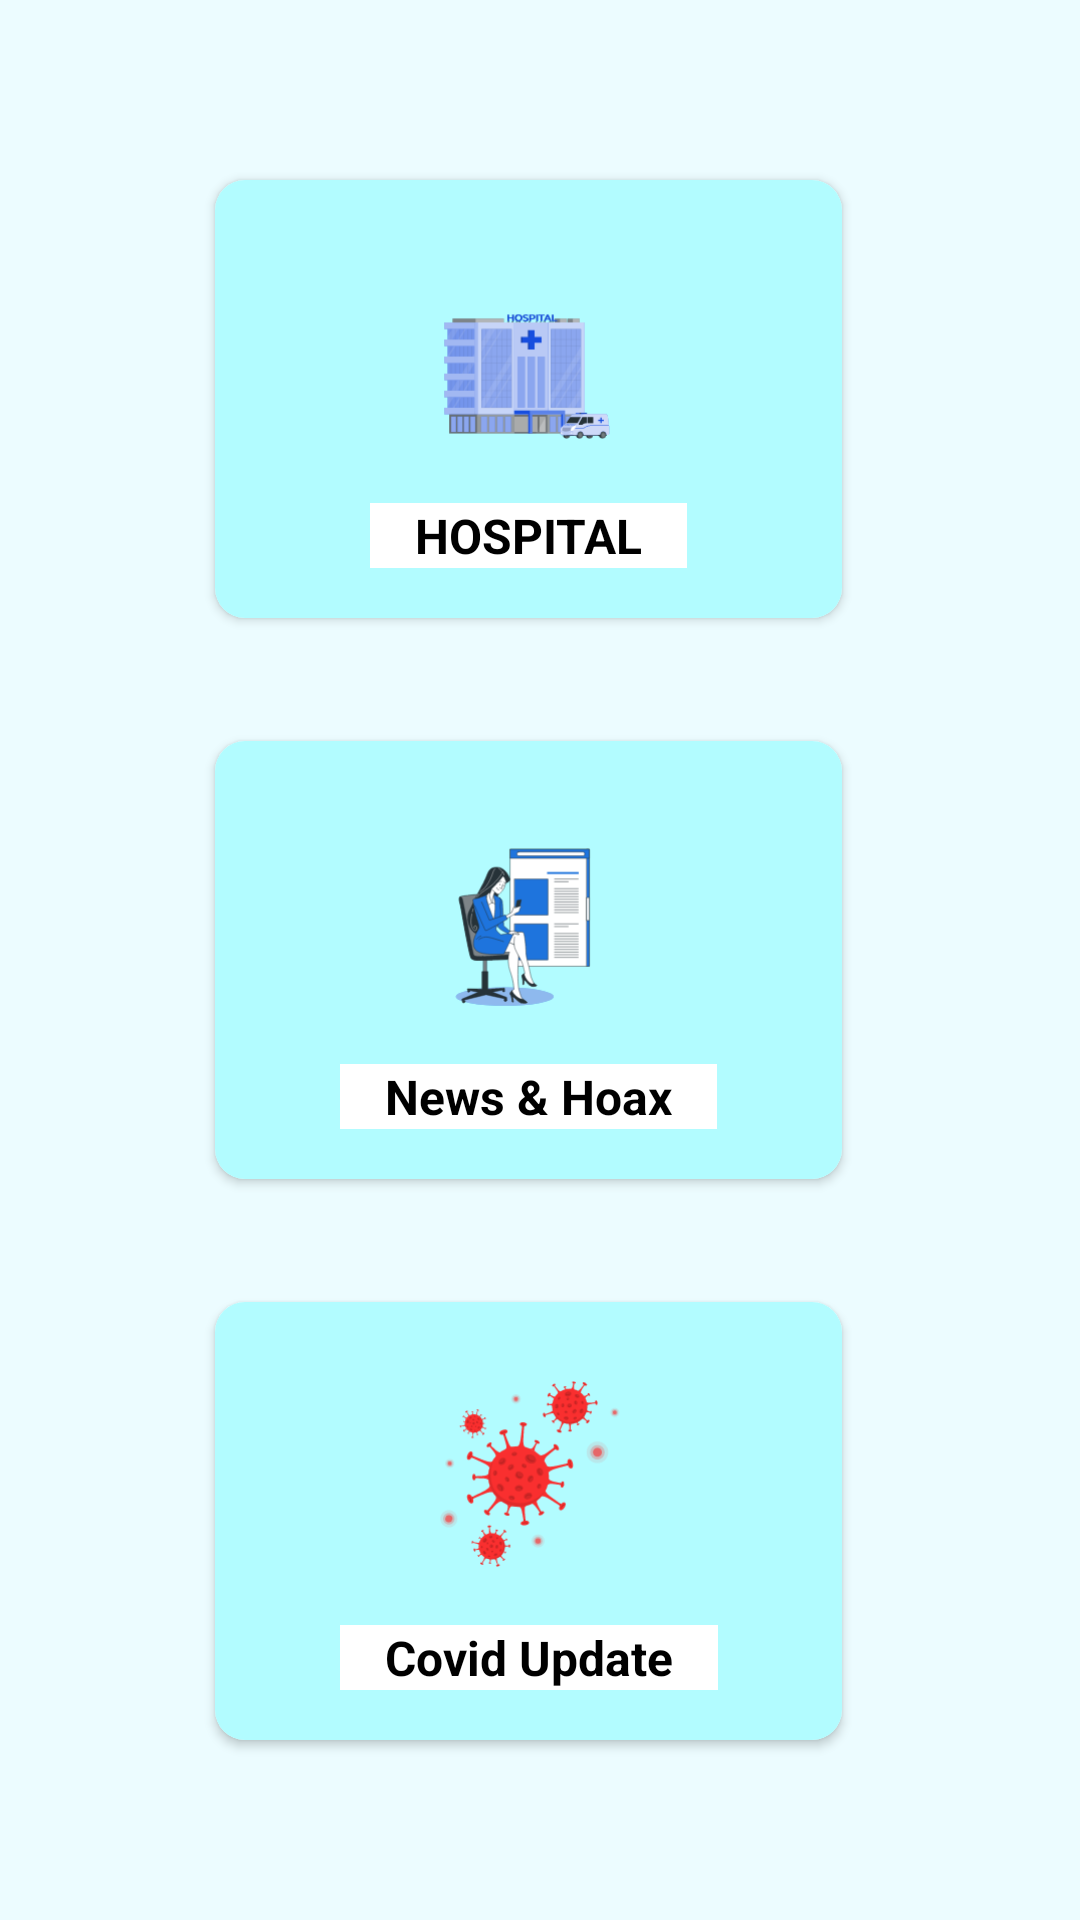

Icon bounding boxes for this 1080px×1920px phone screenshot, format BBox(x1, y1, x2, y2):
news bro: BBox(456, 848, 590, 1006)
virus amico: BBox(443, 1381, 618, 1567)
